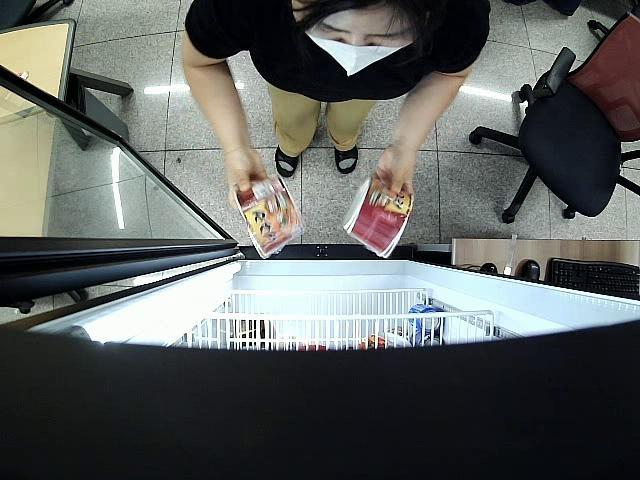05_nuguri_L: (340, 174, 413, 260), (232, 174, 306, 258)
